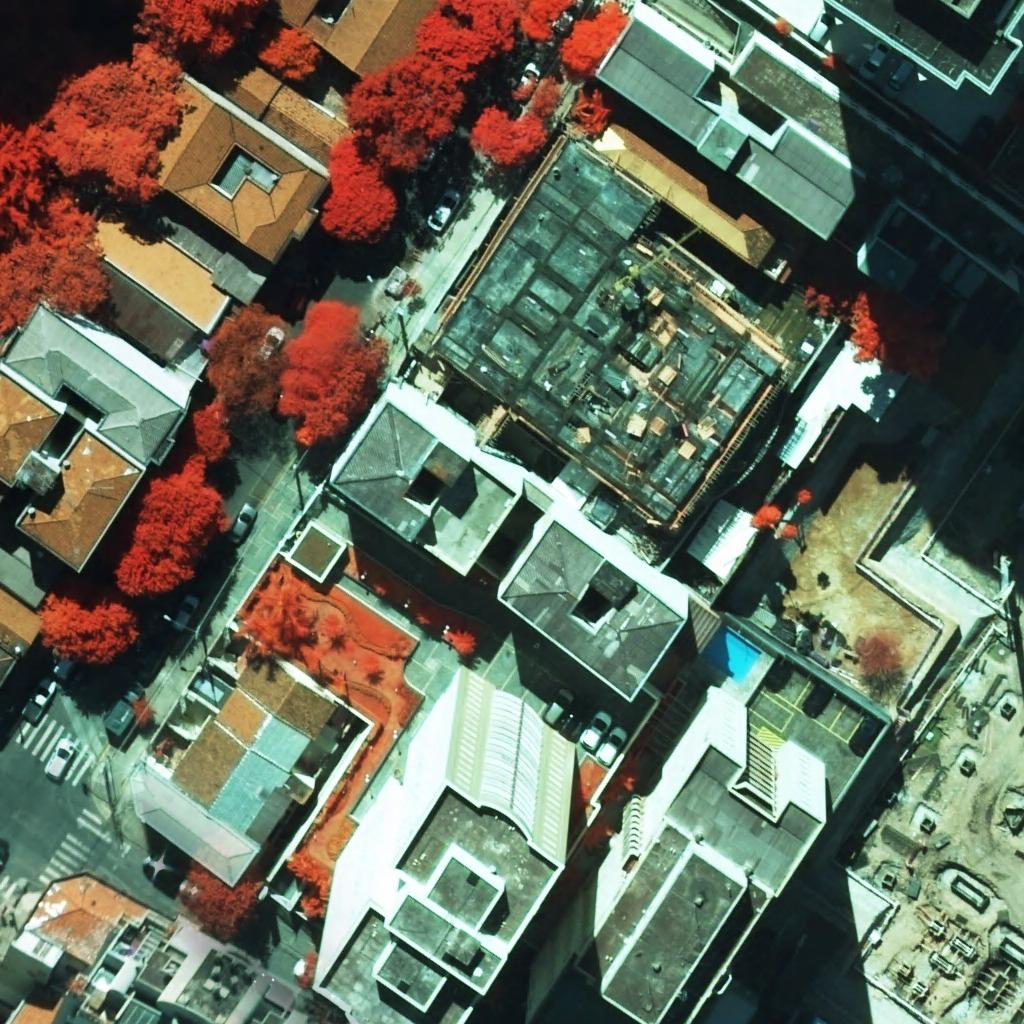pool: (702, 627, 762, 686)
